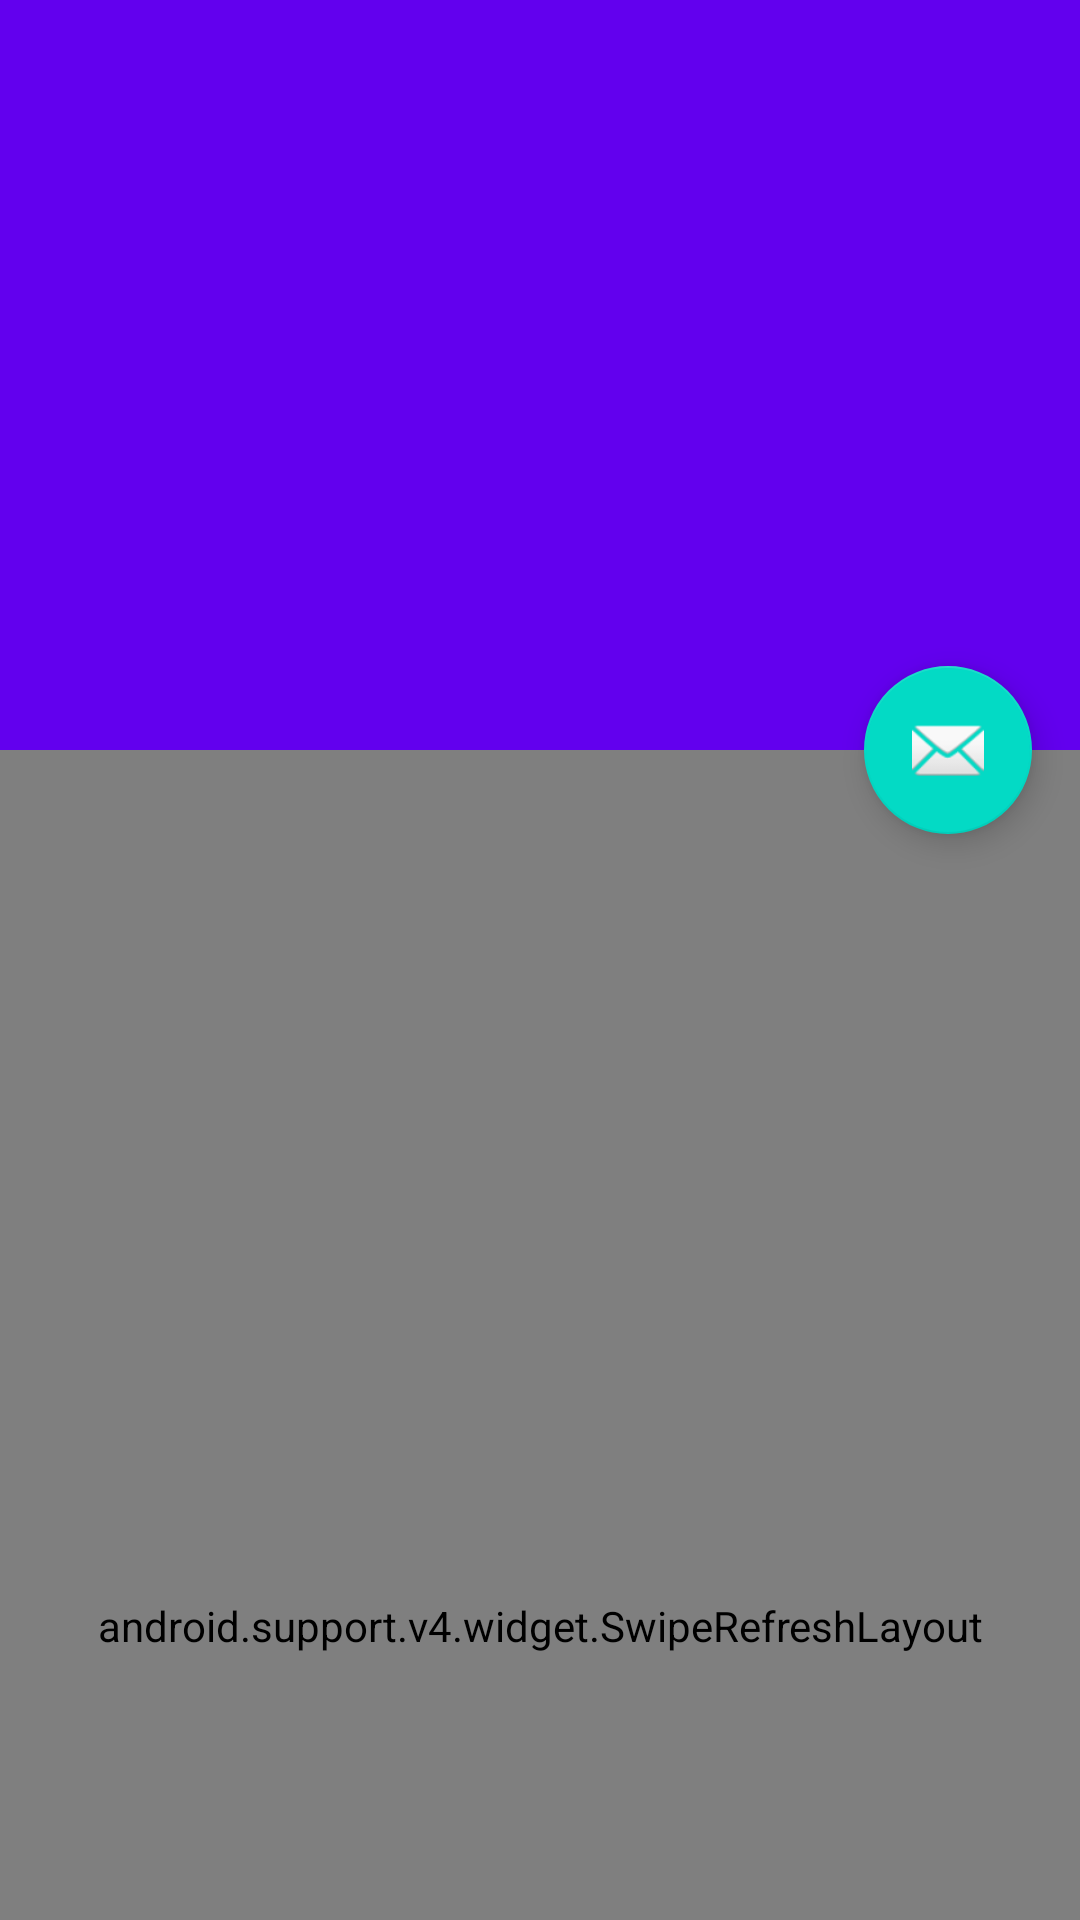

Point at icon controls on the screen. Image size 1080 x 1920, points as point (x, y).
email: point (948, 750)
